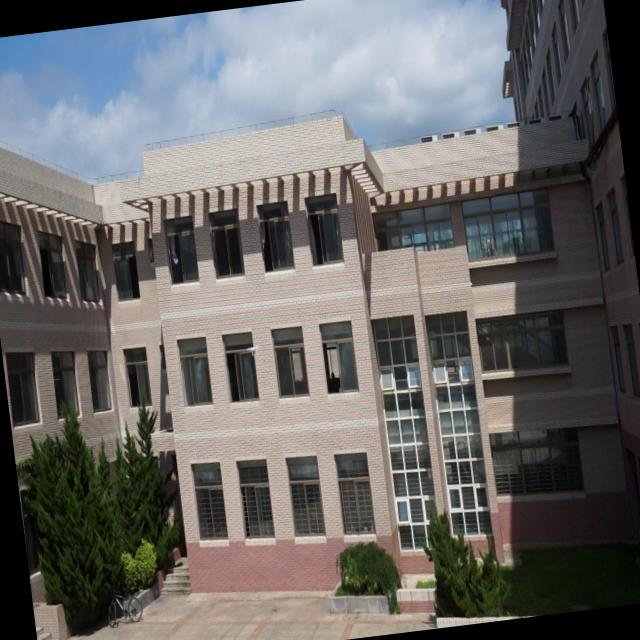drone: (243, 341, 260, 357)
